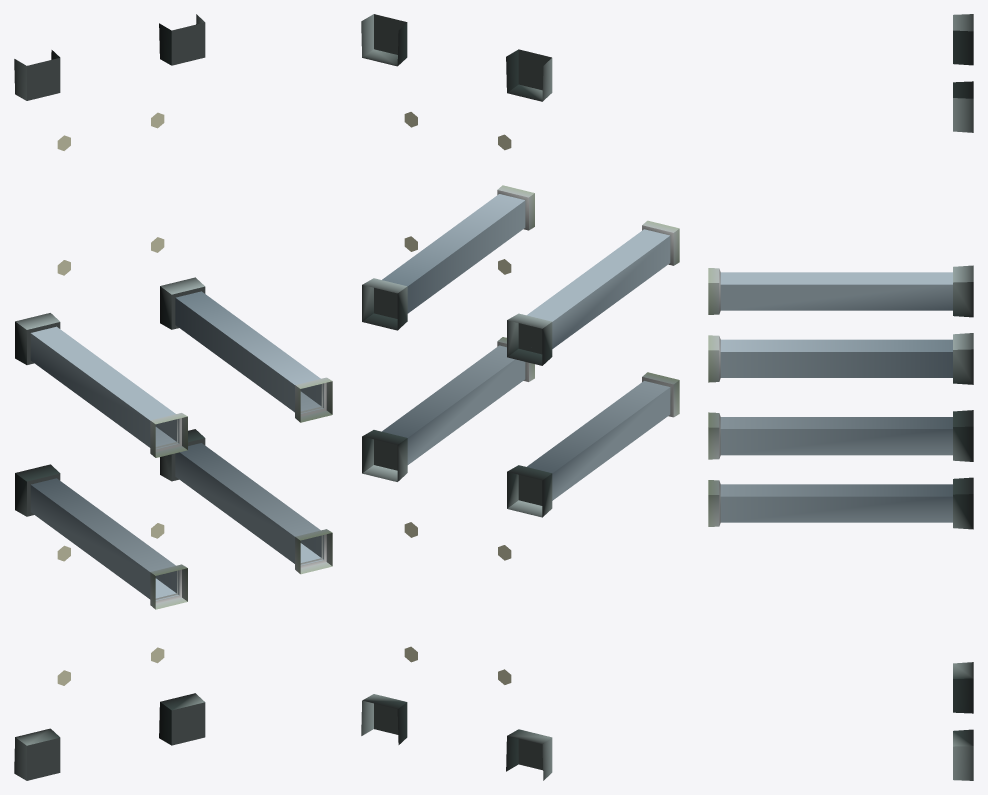
File: SM_000230_w40h003_001roka_concrete01_lv2.fbx
3 renders of one model, left to right at view 1: azimuth 30°, elevation 25°; view 2: azimuth 150°, elevation 25°; view 3: azimuth 270°, elevation 25°, orthographic. The views are drawn at different scales.
Visible parts, largest first — view 1: SM_000230.001; view 2: SM_000230.001; view 3: SM_000230.001.
Part boxes in pixels (x1,y1,x2,y2): SM_000230.001: (14,14,332,780); SM_000230.001: (361,14,679,780); SM_000230.001: (708,14,973,780).
Bounding box in the file's own units: 3.9 × 14.62 × 5.15.
